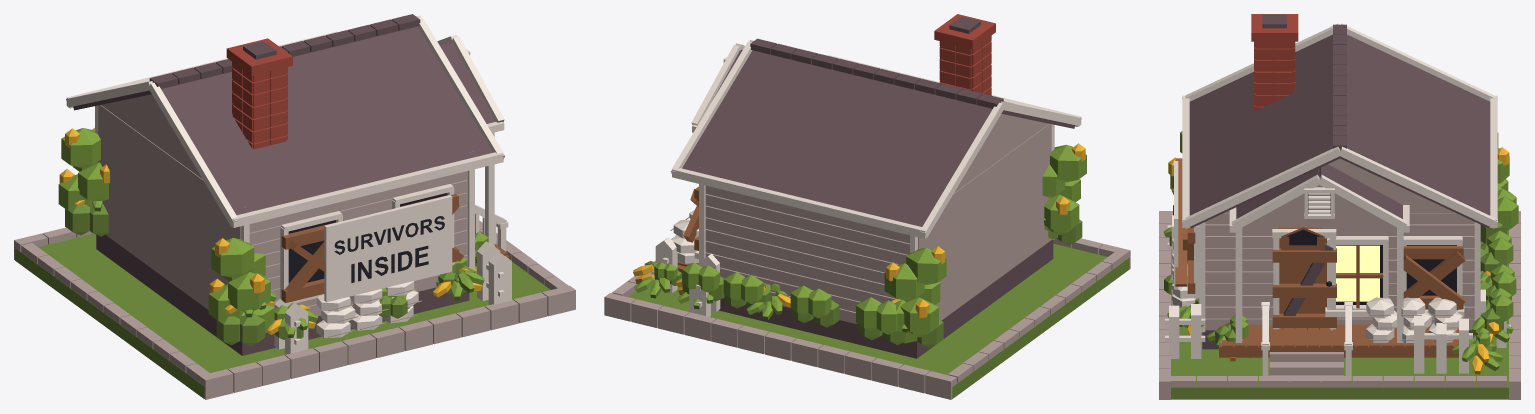
The model's file is bld.safe-house.lod1.glb.
3 renders of one model, left to right at view 1: azimuth 30°, elevation 25°; view 2: azimuth 150°, elevation 25°; view 3: azimuth 270°, elevation 25°, orthographic. The views are drawn at different scales.
Visible parts, largest first — view 1: body, roof; view 2: body, roof; view 3: body, roof, door_front, window_front.
Boxes of the visible parts, <box> form: body: <box>14,49,575,399</box>; roof: <box>66,14,505,227</box>; body: <box>604,57,1130,399</box>; roof: <box>670,14,1081,238</box>; body: <box>1159,131,1520,399</box>; roof: <box>1182,14,1497,232</box>; door_front: <box>1272,238,1336,329</box>; window_front: <box>1336,245,1379,301</box>.
Size of the model in its own units: 7.92 by 5.69 by 7.09.
